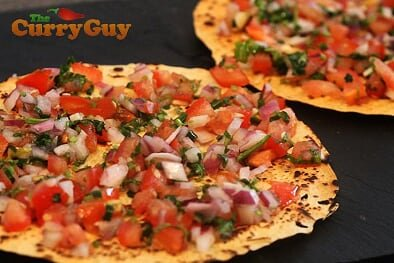sandwich: (0, 60, 342, 259), (193, 1, 394, 116)
